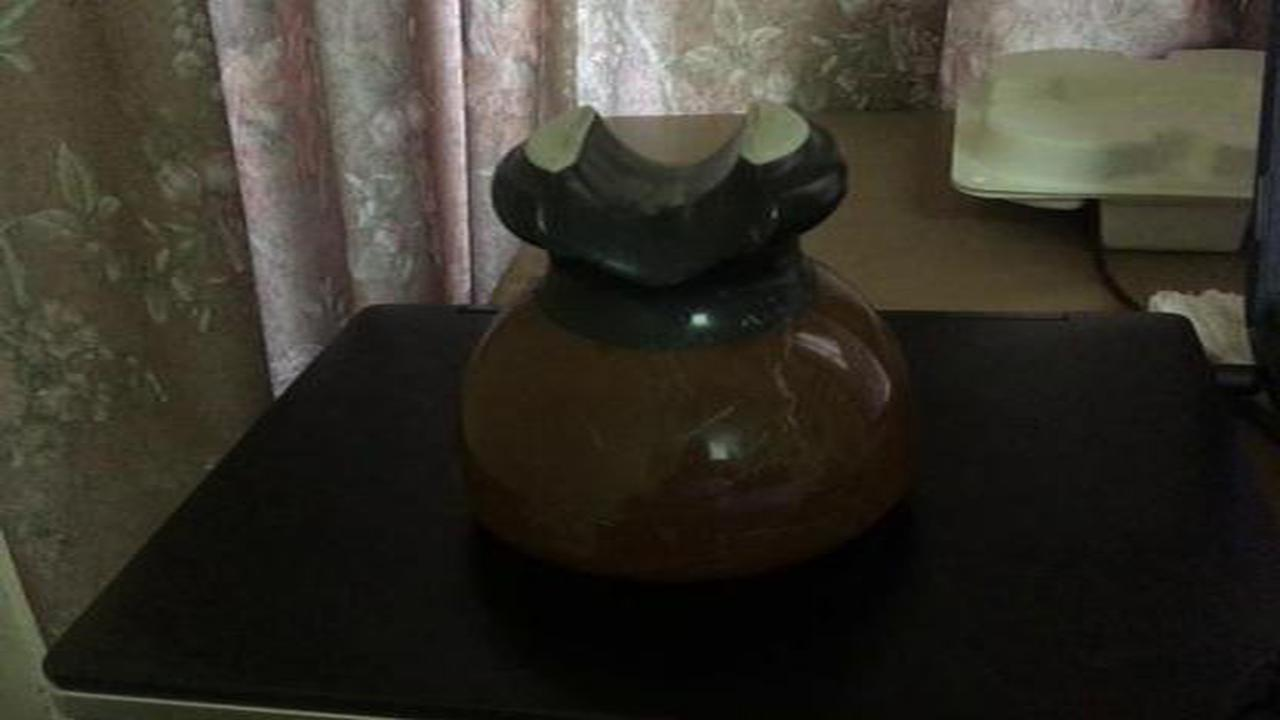insulator_pin: (422, 96, 945, 587)
